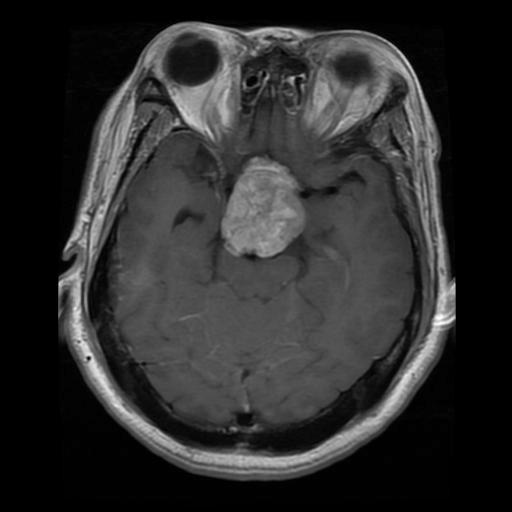Tumour-Pituitary: (208, 159, 318, 268)
